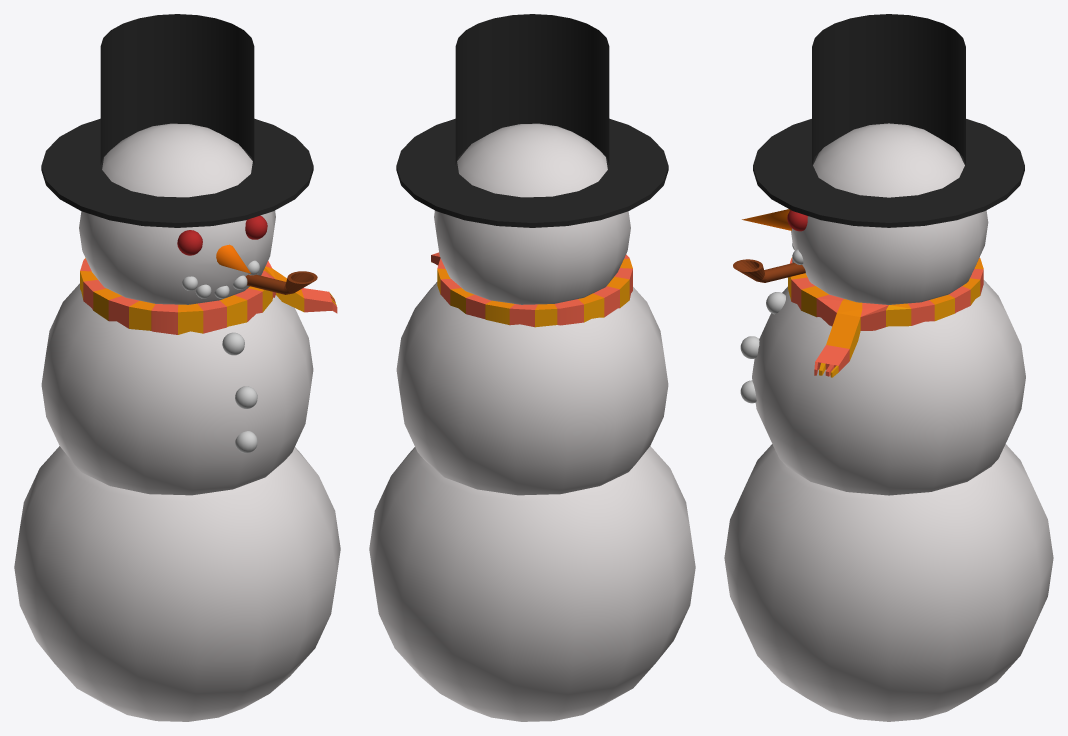
Rendered from Hyper-Snowman.fbx.
3 views of the same model, side by side, from view 1: azimuth 30°, elevation 25°; view 2: azimuth 150°, elevation 25°; view 3: azimuth 270°, elevation 25° (orthographic).
Parts seen in each view (by area): view 1: Group1; view 2: Group1; view 3: Group1.
Boxes of the visible parts, x1=… form: Group1: x1=14, y1=14, x2=340, y2=721; Group1: x1=369, y1=14, x2=695, y2=721; Group1: x1=724, y1=14, x2=1053, y2=721.
Size of the model in its own units: 99.36 by 220 by 99.36.
